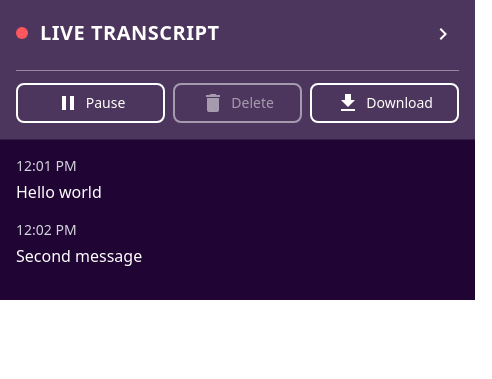
Test: Transcript › Transcript Controls › dismisses error message when X is clicked
Click the button with aria-label "Download transcript": x=385, y=103 x1=310 y1=83 x2=459 y2=123
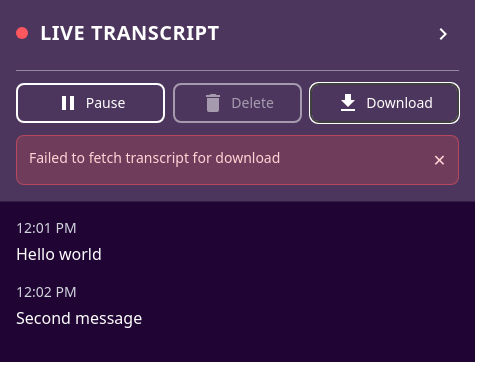
Now the text "Failed to fetch transcript for download" is shown, box x1=29 y1=148 x2=280 y2=168
Click the button named "Dismiss error": x=440, y=160 x1=433 y1=148 x2=446 y2=172
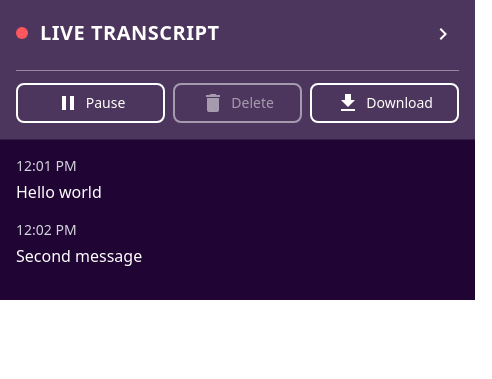
Now the text "Failed to fetch transcript for download" is gone
